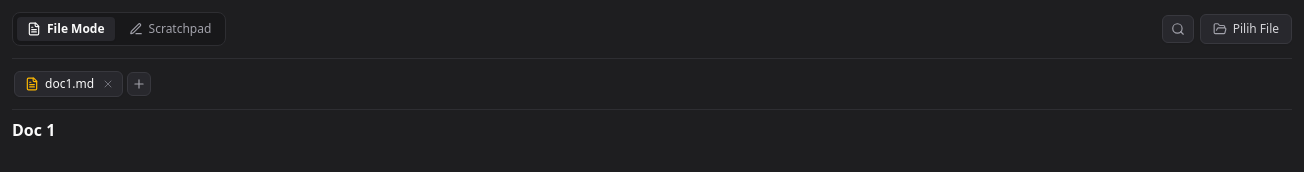
Test: NotesPanel Component › 13. picking a new file adds tab to document list and activates it
The image size is (1304, 172).
Expected: the tab "doc1.md" is shown, [14,71,123,97]
# Klik tombol '+' pada tab bar
Click the button named "Buka dokumen baru" at x=139, y=84, box [127,72,151,96]
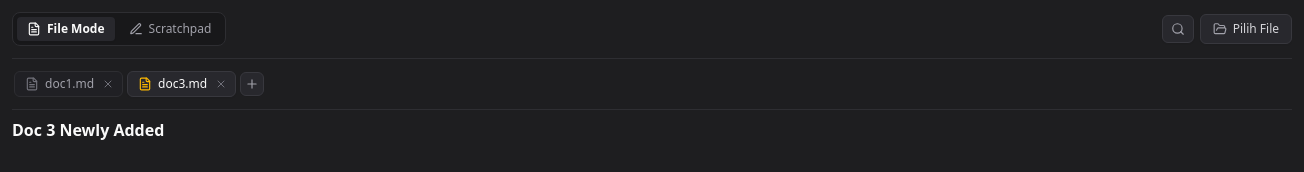
Expected: the heading "Doc 3 Newly Added" is shown, [12,119,164,141]
